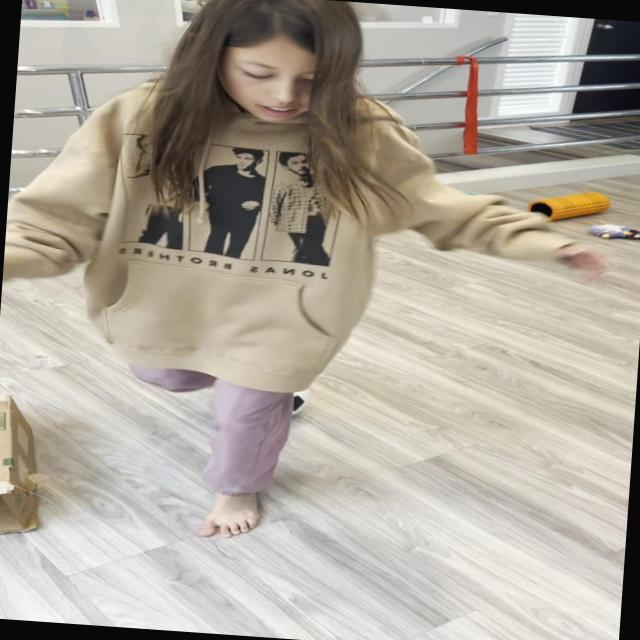Soccer Ball: (231, 374, 310, 422)
